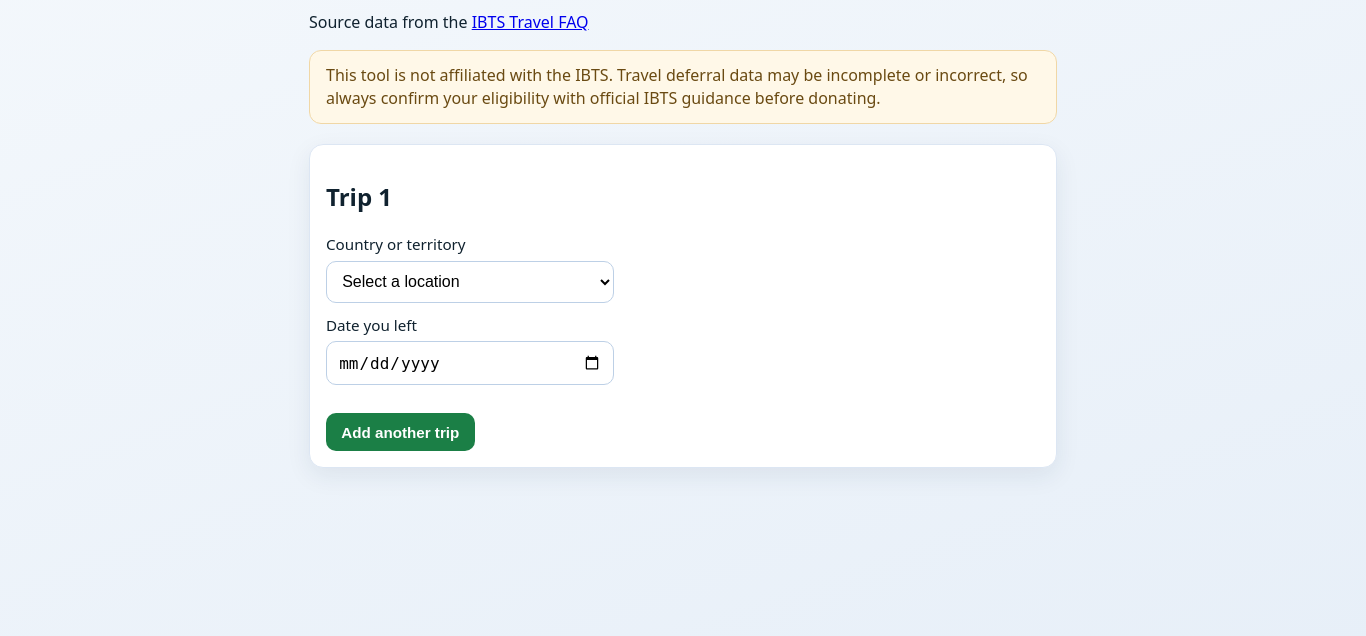
Test: App › renders guidance for each selected country
Select "Bahrain" in the dropdown at point(470, 282), box [326,261,614,303]
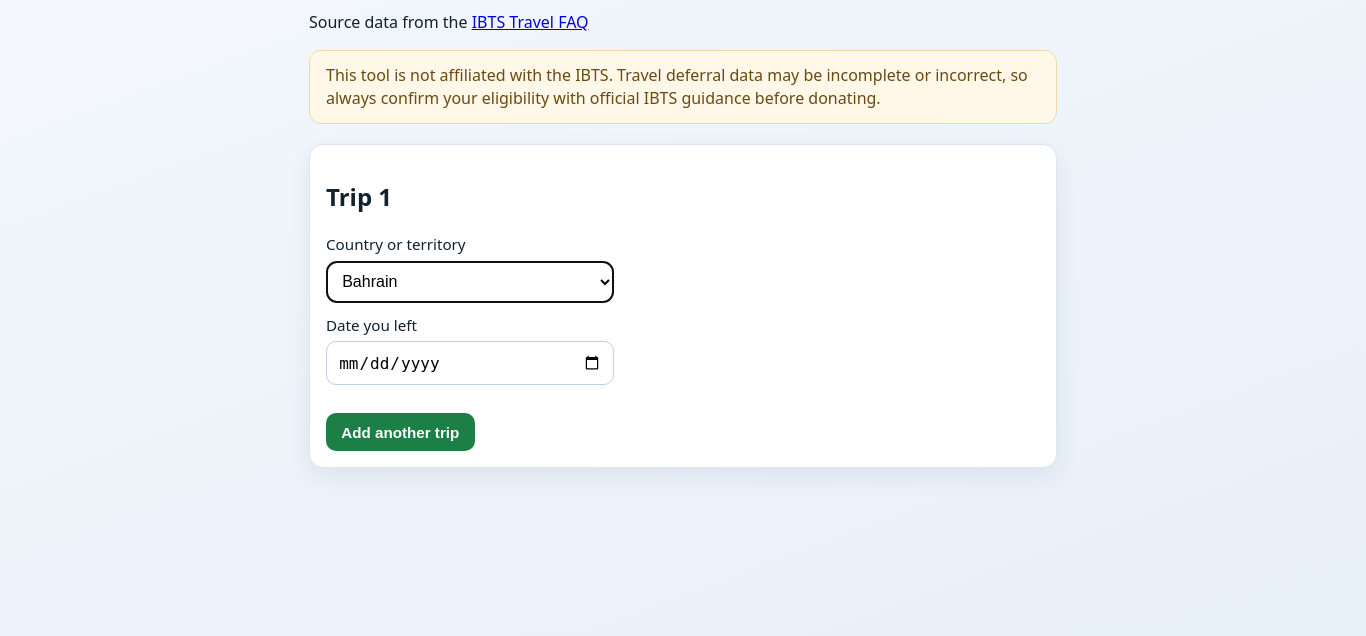
Type "2026-01-01" into the date field labelled "Date you left" at point(470, 363), box [326,342,614,385]
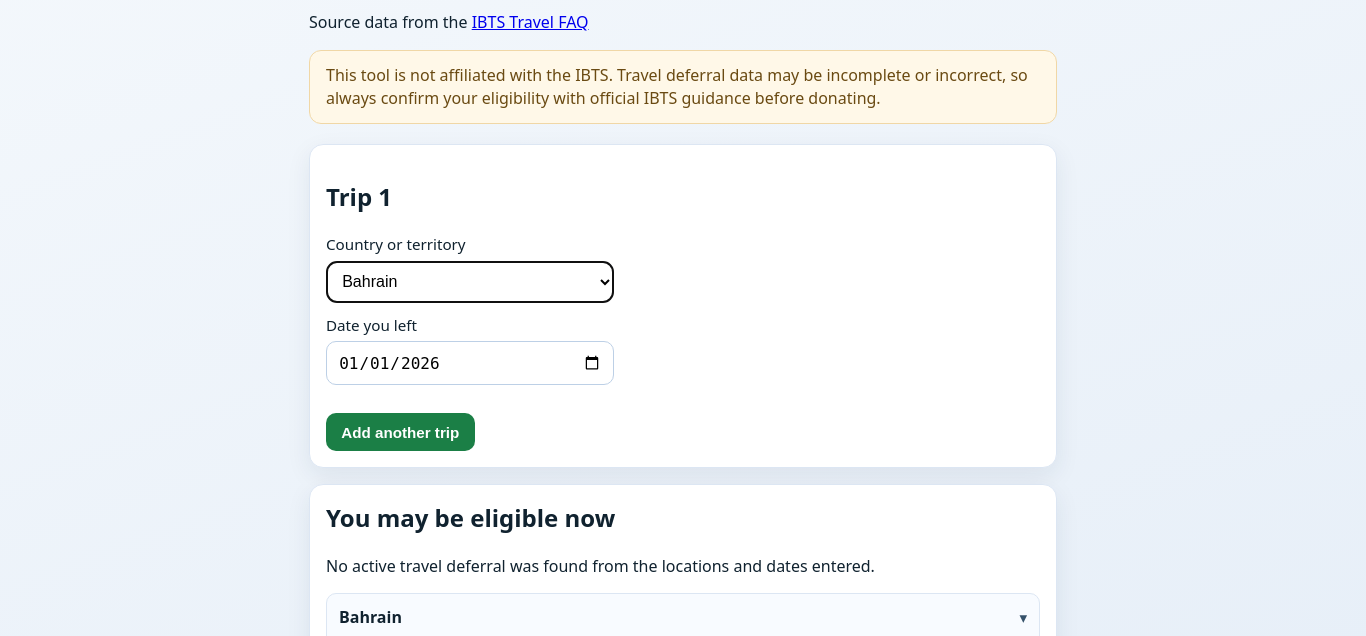
Click the button "Add another trip" at point(400, 432), box [326,413,474,451]
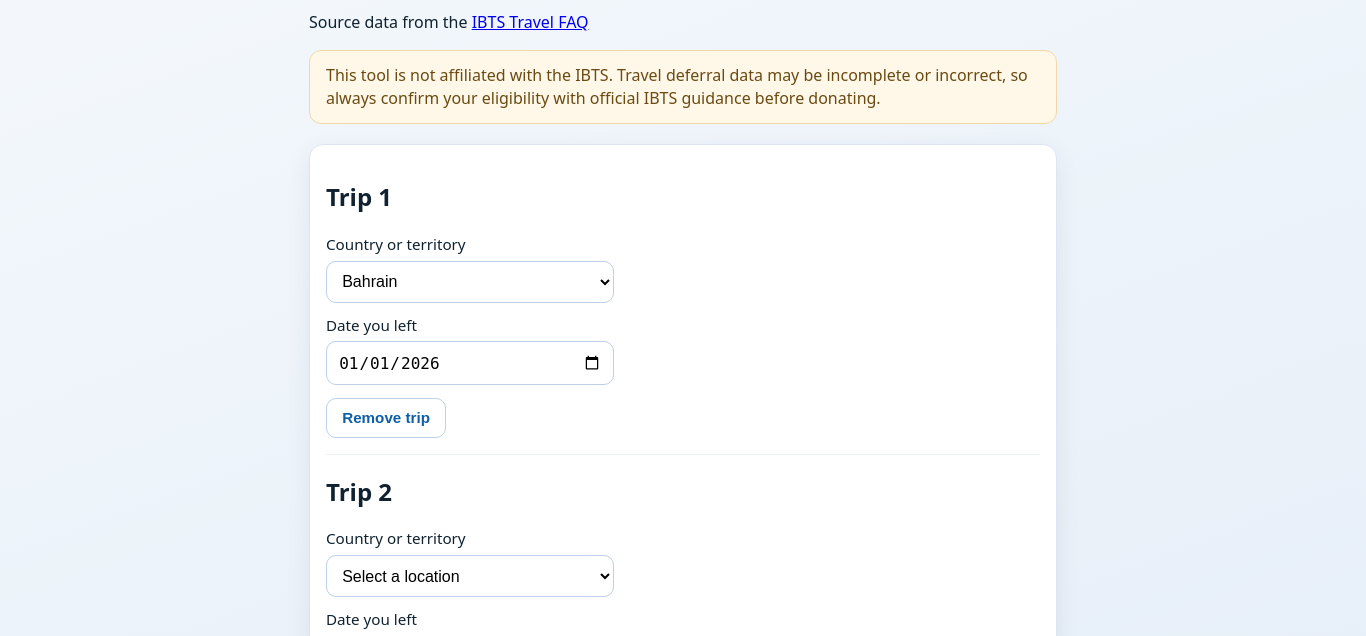
Select "Austria" in the 2nd dropdown labelled "Country or territory" at point(470, 576), box [326,555,614,597]
(page scrolled)
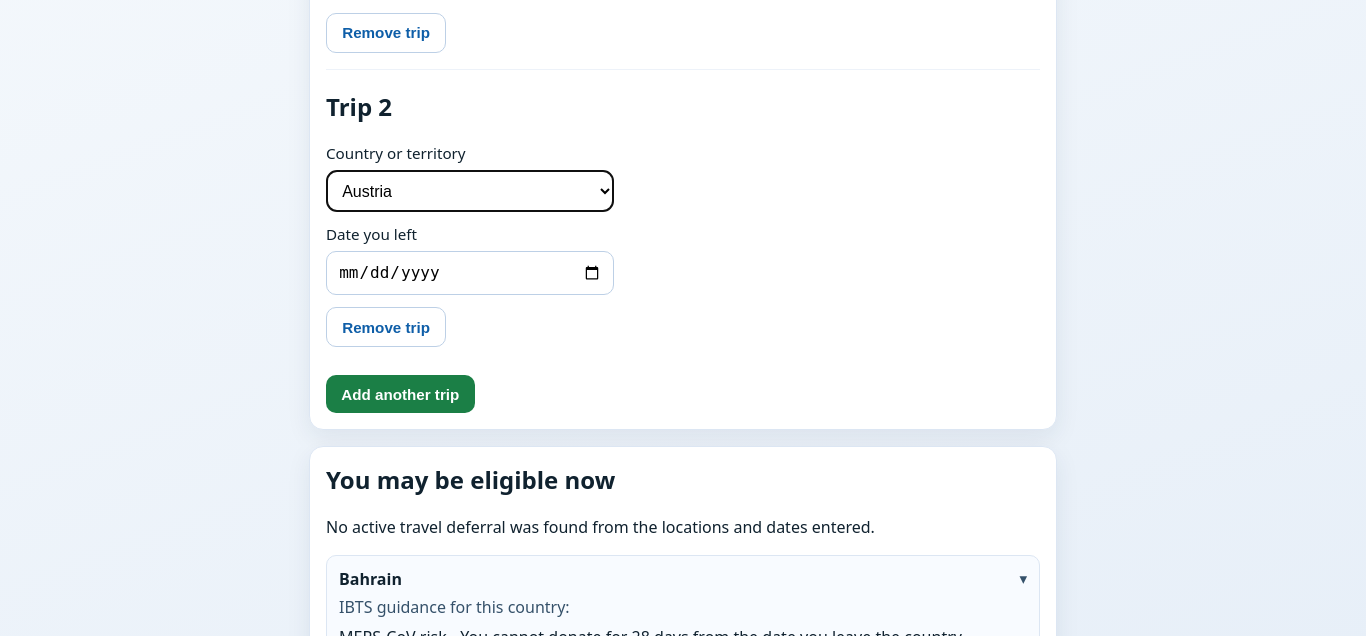
Type "2026-03-01" into the 2nd date field labelled "Date you left" at point(470, 273), box [326,251,614,295]
(page scrolled)
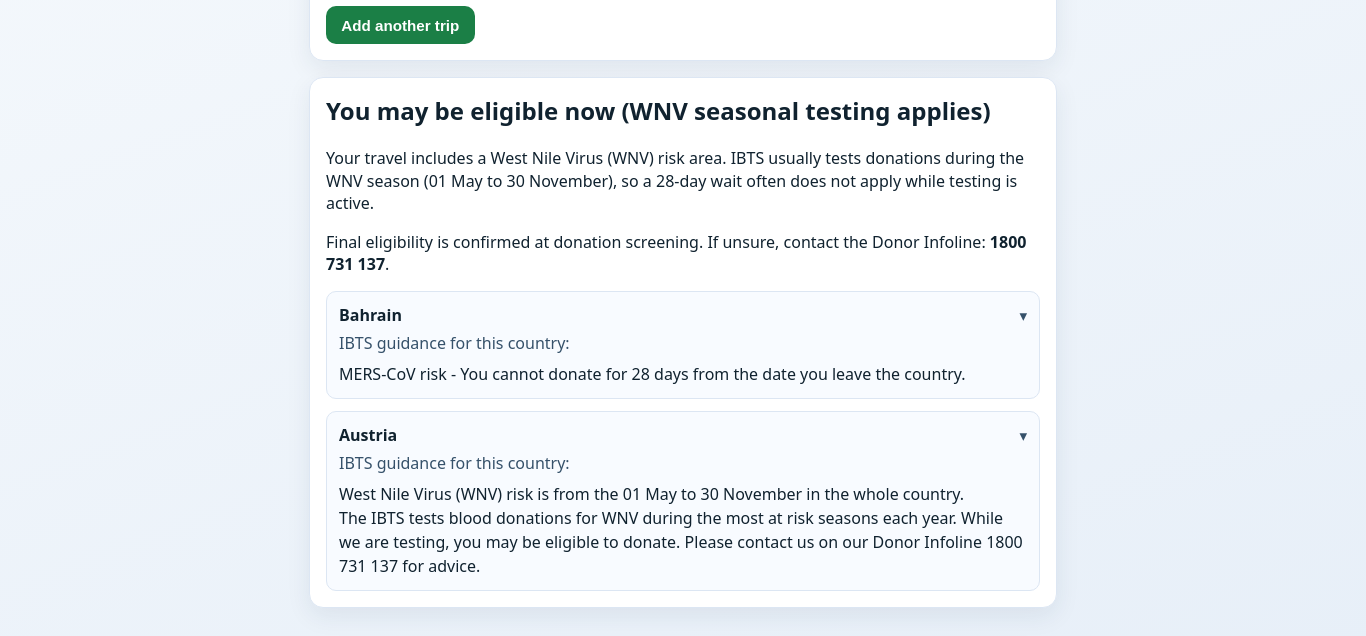
Now the heading "Bahrain" is shown, box [339,304,402,327]
Now the heading "Austria" is shown, box [339,424,397,446]
Now the text "IBTS guidance for this country:" is shown 2 times, box [339,332,570,354]; [339,452,570,474]
